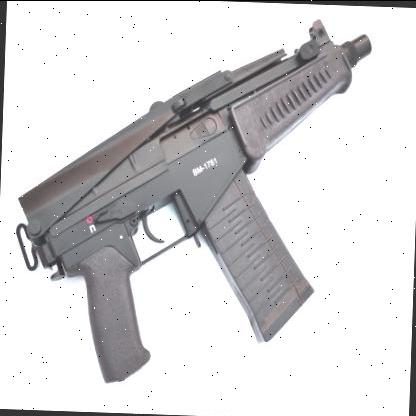rifle: (7, 0, 358, 390)
